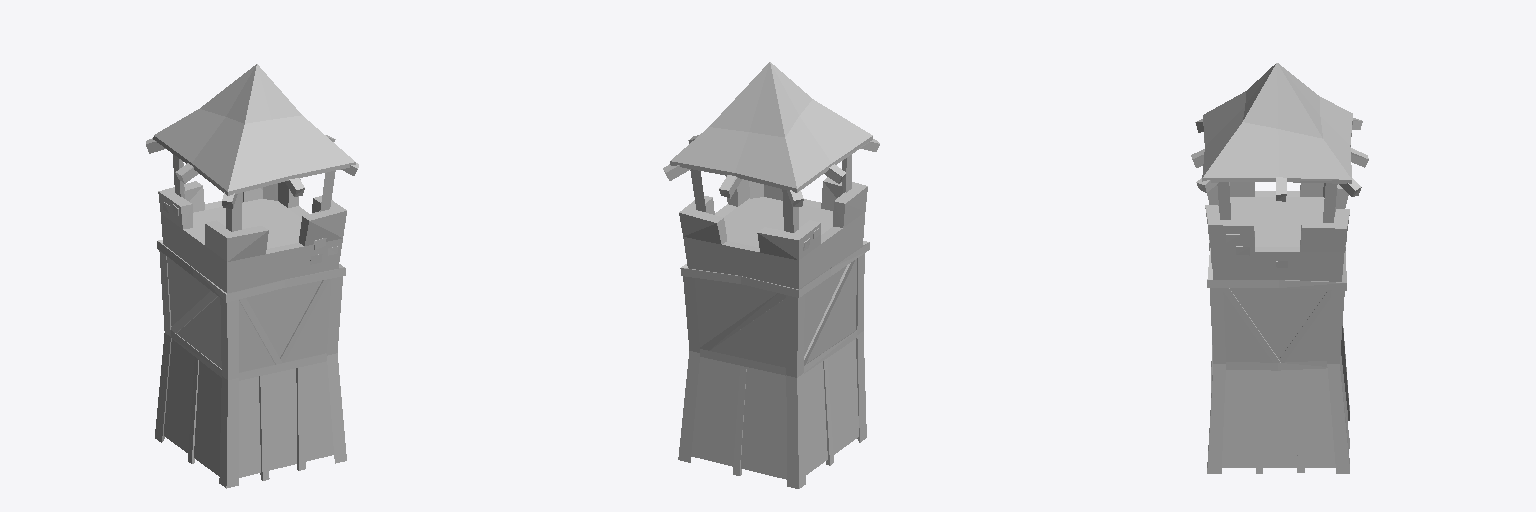
The model's file is tower1.obj.
3 renders of one model, left to right at view 1: azimuth 30°, elevation 25°; view 2: azimuth 150°, elevation 25°; view 3: azimuth 270°, elevation 25°, orthographic.
Visible parts, largest first — view 1: gtmfc_tower_Mesh; view 2: gtmfc_tower_Mesh; view 3: gtmfc_tower_Mesh.
Boxes of the visible parts, x1=… form: gtmfc_tower_Mesh: x1=146, y1=64, x2=358, y2=488; gtmfc_tower_Mesh: x1=663, y1=62, x2=879, y2=488; gtmfc_tower_Mesh: x1=1191, y1=63, x2=1368, y2=473.
Size of the model in its own units: 2.43 by 5.79 by 2.42.